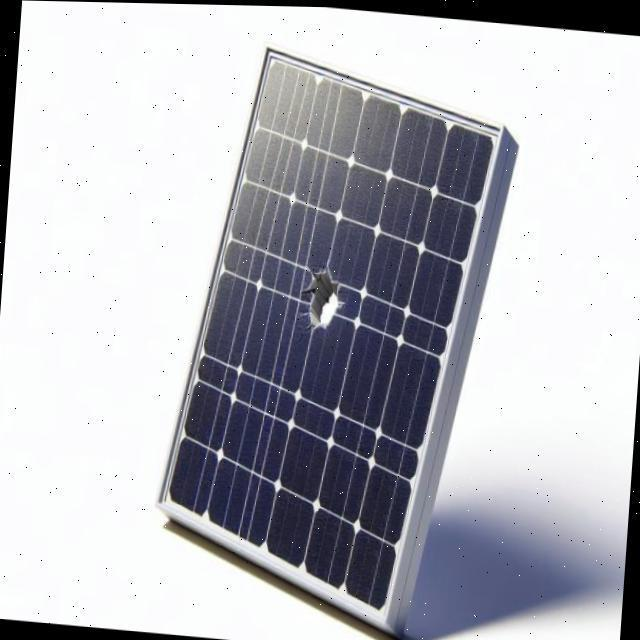Anomaly Solar Panel: (147, 52, 500, 617)
Structural Damage: (299, 260, 344, 326), (289, 318, 314, 342)
